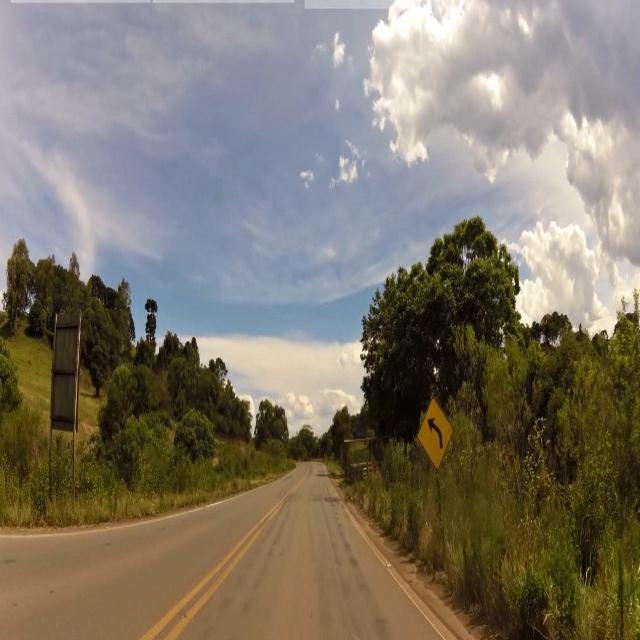A-2a: (417, 397, 452, 469)
